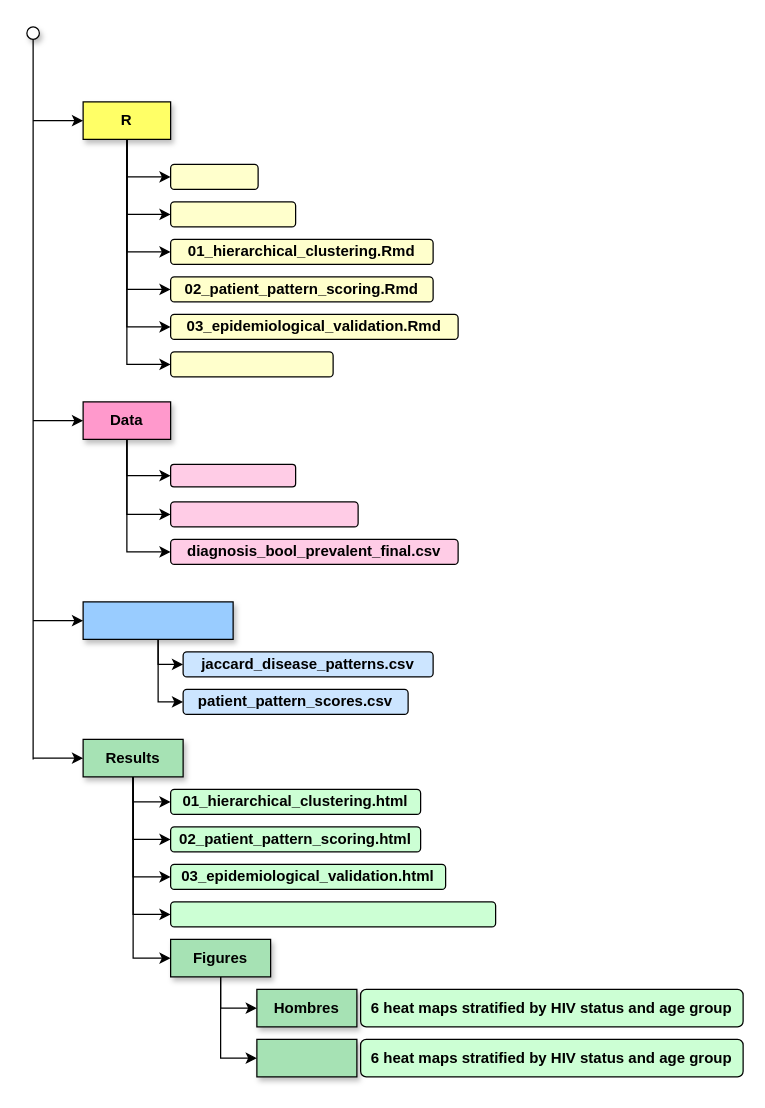
This 765x1108 diagram has some shape labels left out. The centre of each missing label's shape, as x and y in pixels:
00_config.R: (x=232, y=214)
04_visualization.R: (x=251, y=364)
bdu_full.csv: (x=232, y=475)
cohort_match_id.csv: (x=263, y=514)
epidemiological_validation_or_results.csv: (x=332, y=914)
Intermediate_data: (x=159, y=622)
Main.R: (x=213, y=176)
Mujeres: (x=307, y=1059)
